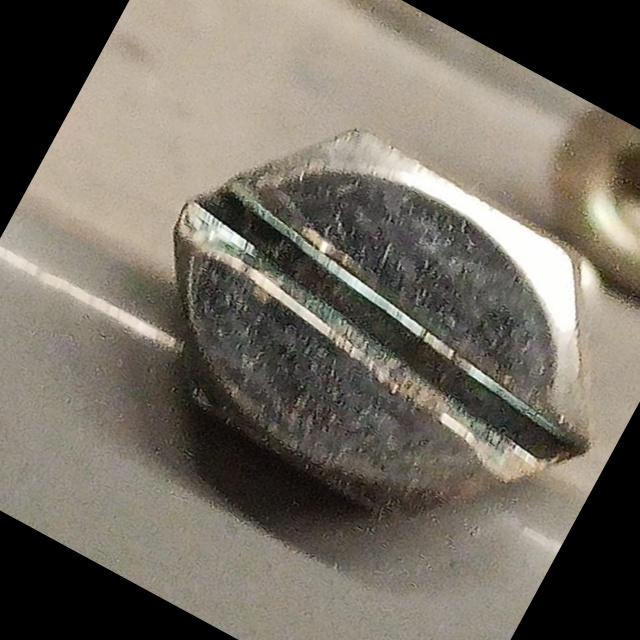duz: (92, 67, 640, 594)
